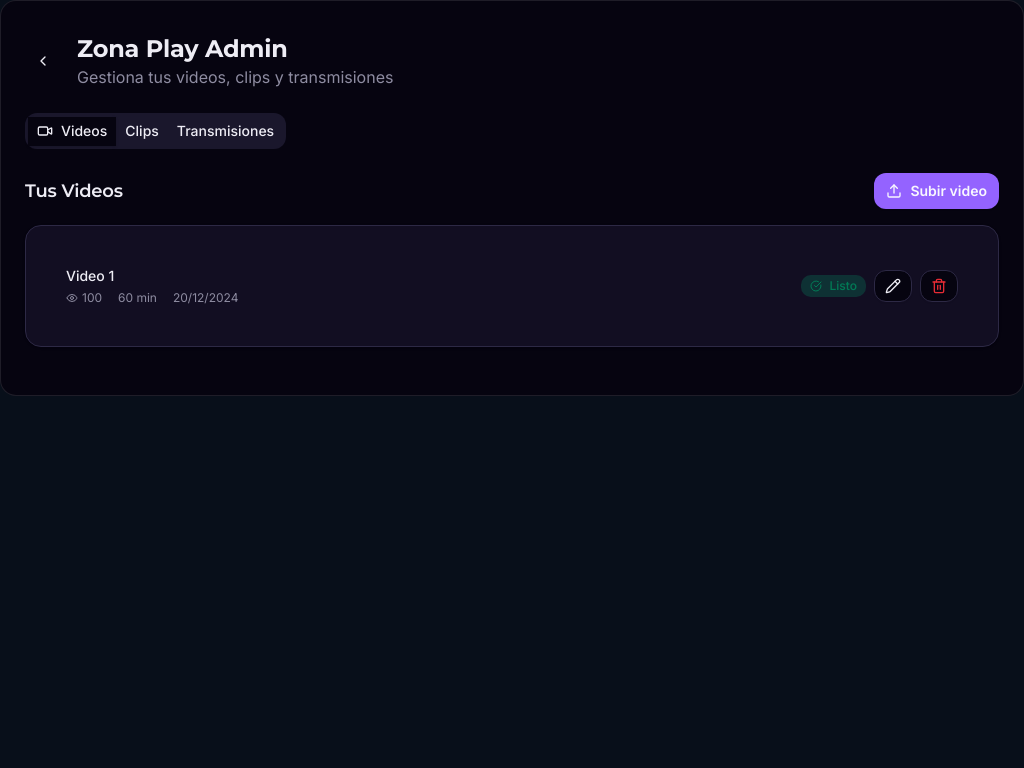
Test: AdminPage videos › deletes the video only after confirming, then reports and refetches
Click the button named "Eliminar video Video 1" at (939, 286), box [920,270,958,302]
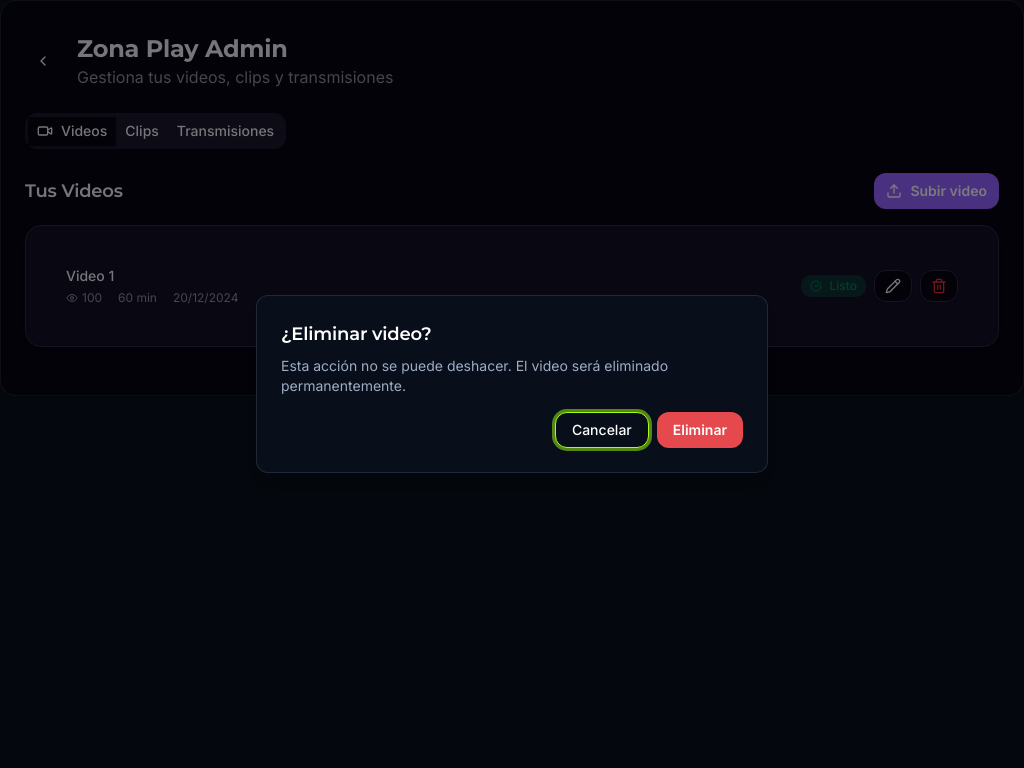
expect the heading "¿Eliminar video?" is shown: met, box [281,323,432,345]
Click the button "Eliminar" at (700, 430), box [657,412,743,448]
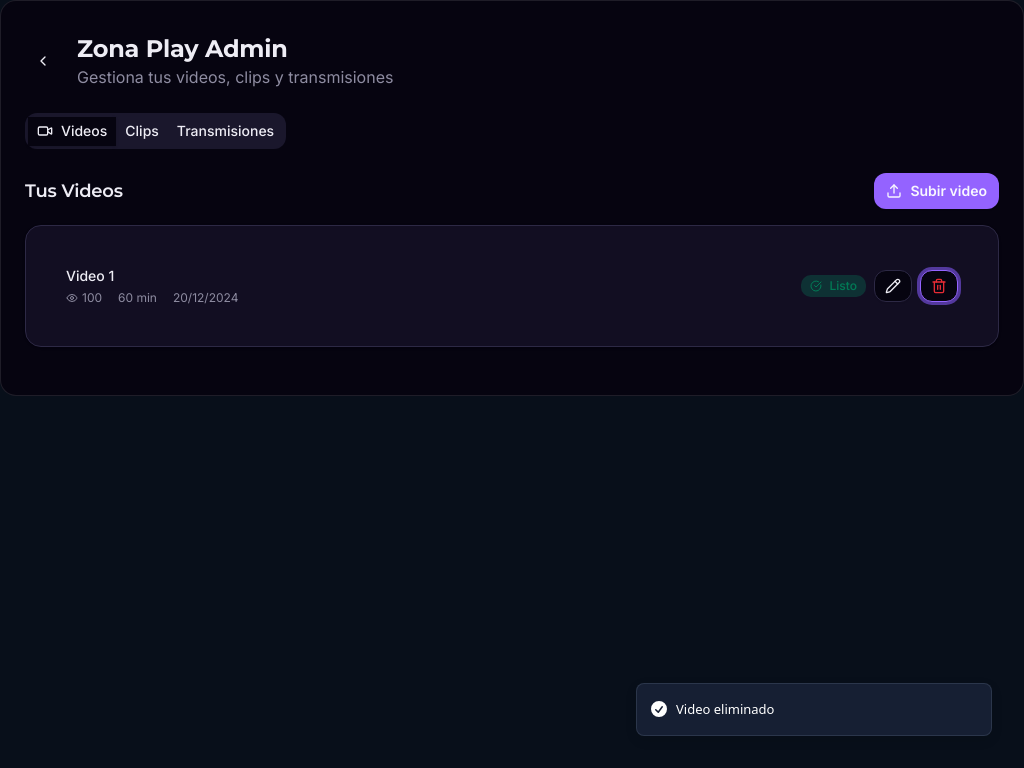
expect the text "Video eliminado" is shown: met, box [676,700,774,719]
